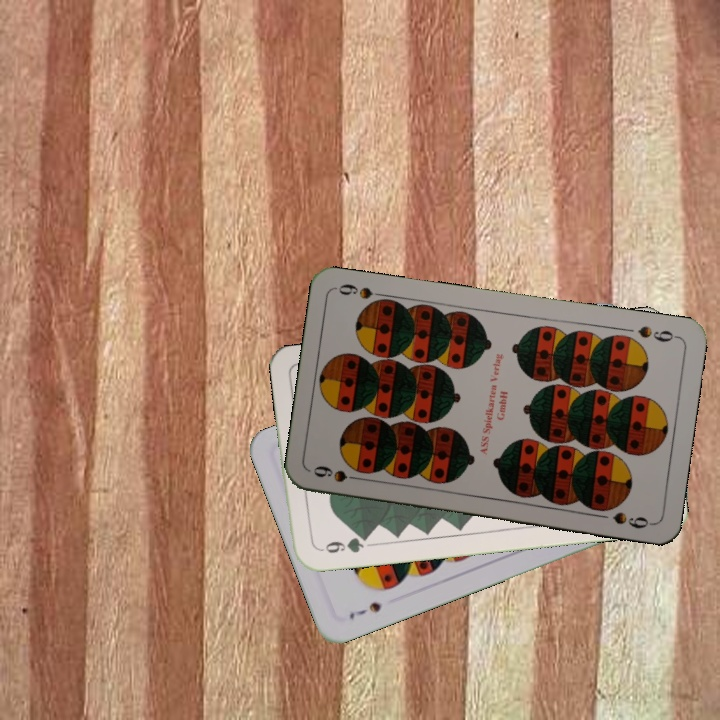G9: (314, 531, 372, 556)
S7: (345, 598, 384, 623)
S9: (309, 461, 368, 485), (634, 321, 681, 345)
